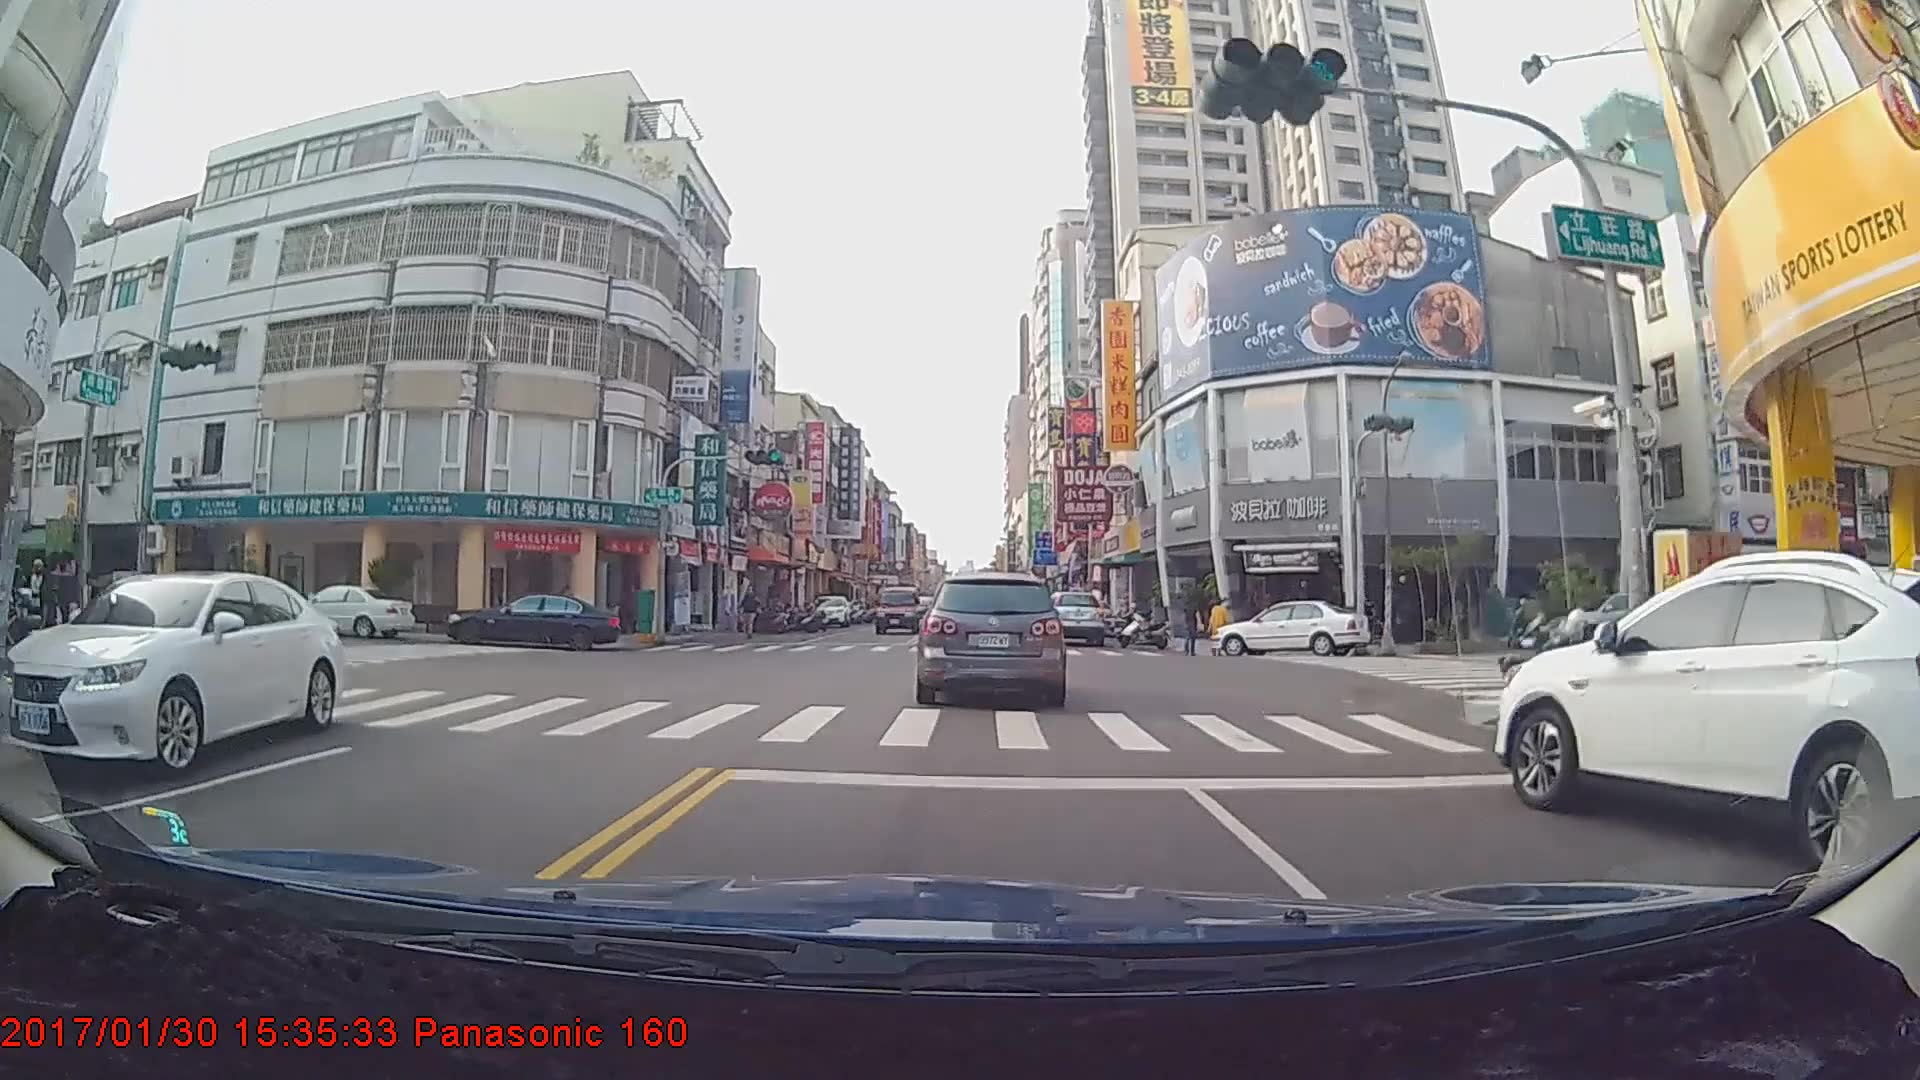pedestrian: (40, 547, 85, 696), (1180, 590, 1203, 659), (1210, 595, 1231, 650), (741, 587, 762, 639)
vehicle: (1496, 547, 1920, 884), (9, 568, 340, 778), (917, 572, 1065, 707), (441, 581, 619, 639), (1212, 598, 1368, 660), (269, 579, 415, 637), (1037, 585, 1105, 644), (873, 581, 920, 631), (805, 592, 850, 628)
